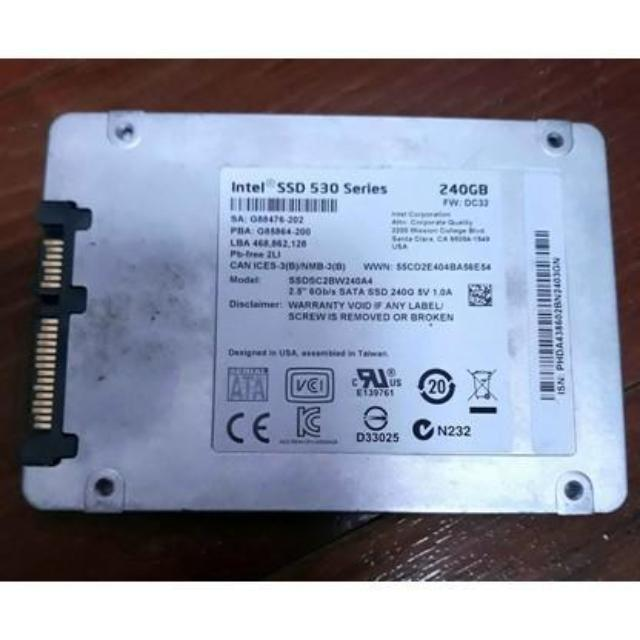DISK: (17, 102, 631, 530)
